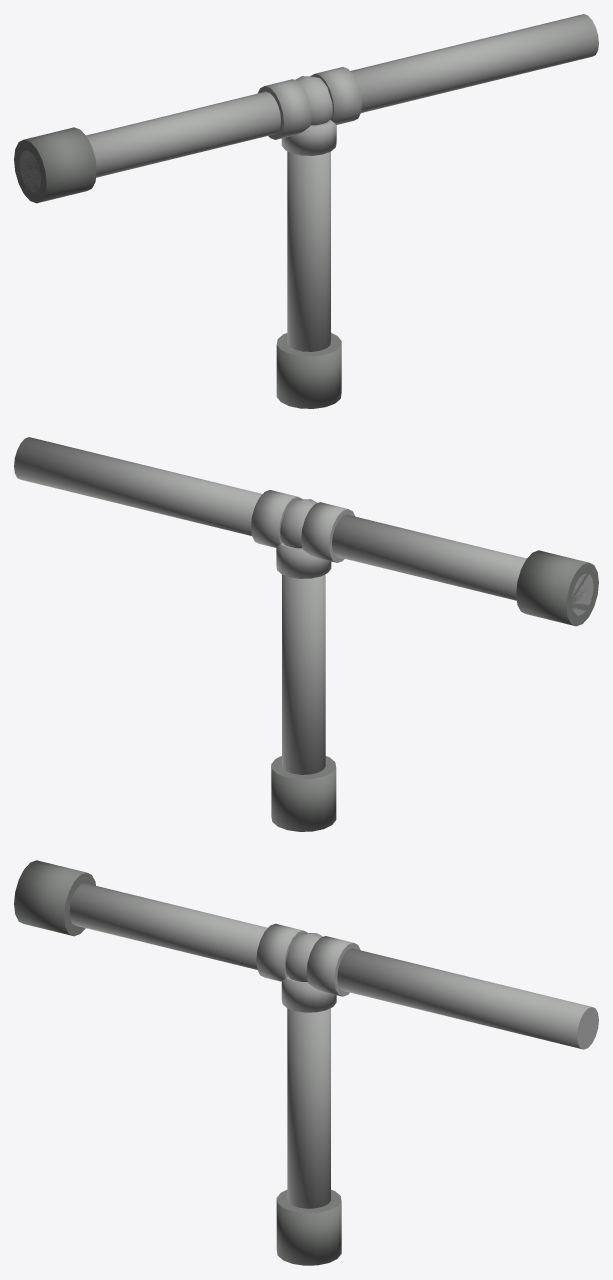
File: pipe_m11_x9.obj
The picture shows the model from 3 angles, top to bottom: view 1: azimuth 30°, elevation 25°; view 2: azimuth 150°, elevation 25°; view 3: azimuth 330°, elevation 25°; orthographic projection.
Visible parts, largest first — view 1: pipe2, pipe8, pipe1, sleeve8, sleeve1, fitting_socket8, fitting_socket2, fitting_socket1, fitting_hub; view 2: pipe2, pipe8, pipe1, sleeve8, sleeve1, fitting_socket8, fitting_socket2, fitting_socket1, fitting_hub; view 3: pipe2, pipe1, pipe8, sleeve1, sleeve8, fitting_socket2, fitting_socket8, fitting_socket1, fitting_hub.
Boxes of the visible parts, x1,y1,x2,y2 form: pipe2: [350, 14, 598, 112]; pipe8: [19, 91, 280, 192]; pipe1: [287, 151, 330, 351]; sleeve8: [14, 127, 96, 203]; sleeve1: [276, 333, 341, 408]; fitting_socket8: [257, 79, 311, 139]; fitting_socket2: [310, 67, 361, 124]; fitting_socket1: [281, 120, 336, 155]; fitting_hub: [295, 76, 332, 125]; pipe2: [14, 437, 262, 535]; pipe8: [332, 514, 593, 615]; pipe1: [282, 574, 325, 774]; sleeve8: [516, 550, 598, 626]; sleeve1: [271, 756, 336, 831]; fitting_socket8: [301, 502, 355, 562]; fitting_socket2: [251, 490, 302, 547]; fitting_socket1: [276, 543, 331, 578]; fitting_hub: [280, 499, 317, 548]; pipe2: [337, 948, 598, 1049]; pipe1: [287, 1008, 330, 1208]; pipe8: [69, 883, 267, 969]; sleeve1: [276, 1189, 341, 1265]; sleeve8: [14, 860, 95, 936]; fitting_socket2: [306, 936, 360, 996]; fitting_socket8: [256, 923, 307, 981]; fitting_socket1: [281, 976, 336, 1012]; fitting_hub: [285, 933, 322, 981].
Size of the model in its own units: 1 by 0.5507 by 0.1014.
2 materials, 2 textured.
